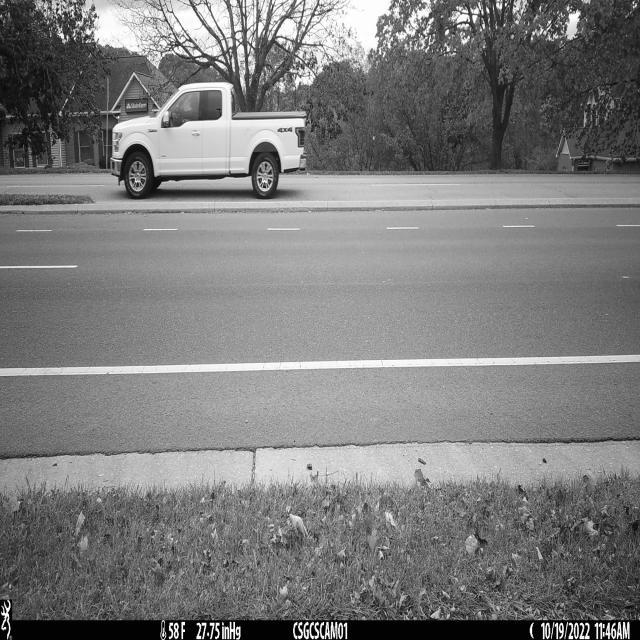Pickup: (111, 83, 307, 198)
